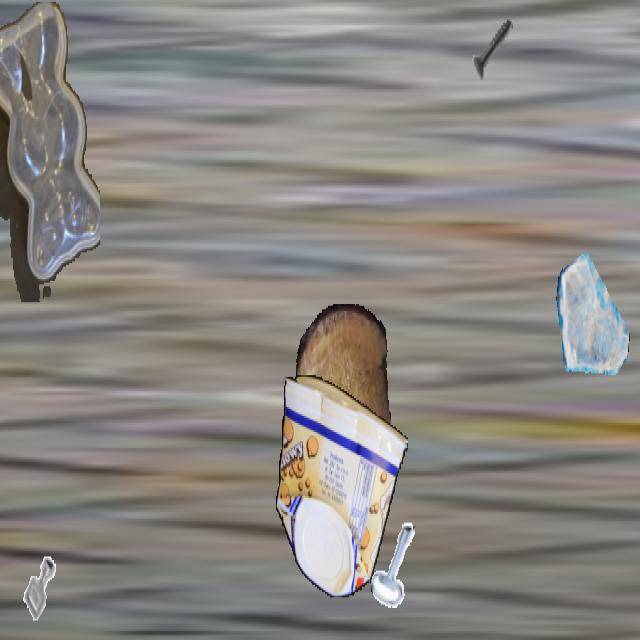glass: (556, 247, 630, 379)
metal: (467, 2, 519, 94), (370, 521, 422, 613), (15, 542, 65, 631)
plastic: (0, 2, 99, 300), (276, 375, 408, 596)
wood: (296, 304, 390, 489)
